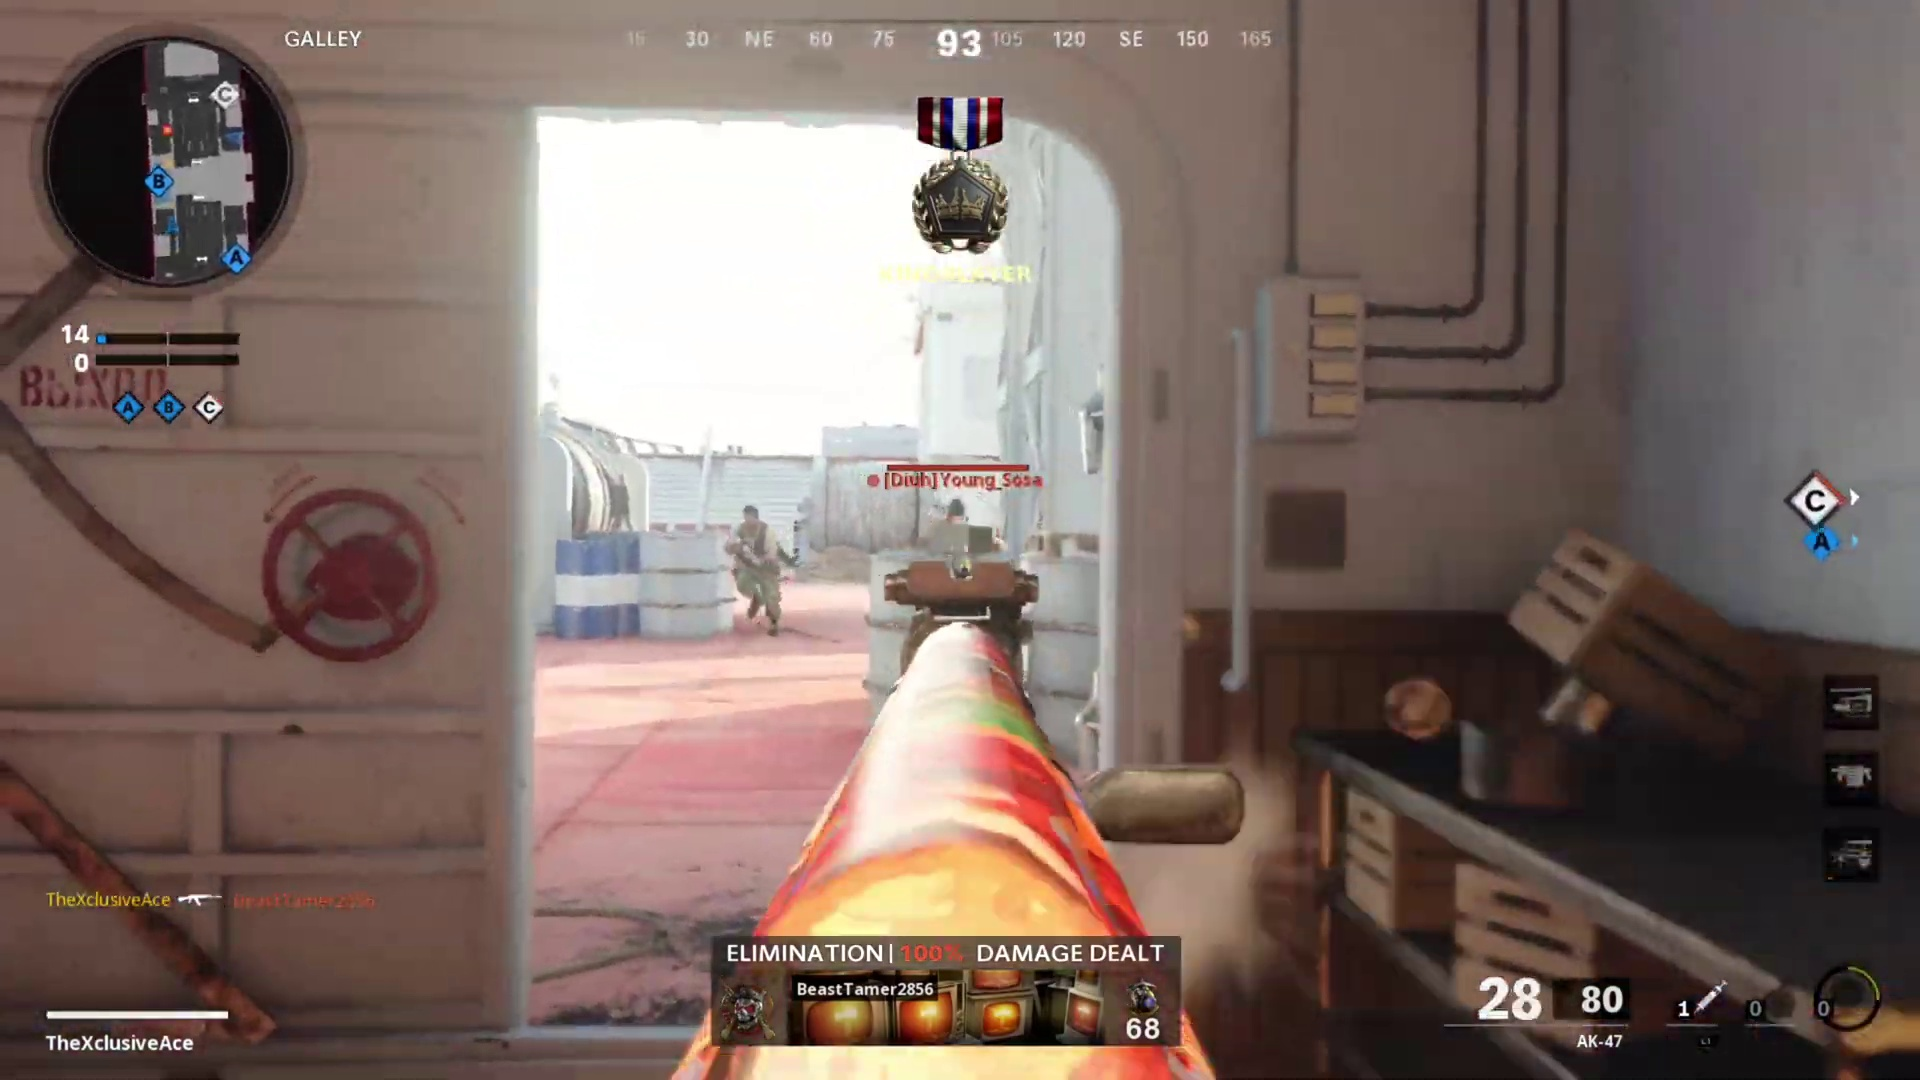head: (937, 502, 962, 530), (738, 502, 760, 530)
person: (729, 500, 789, 631)
